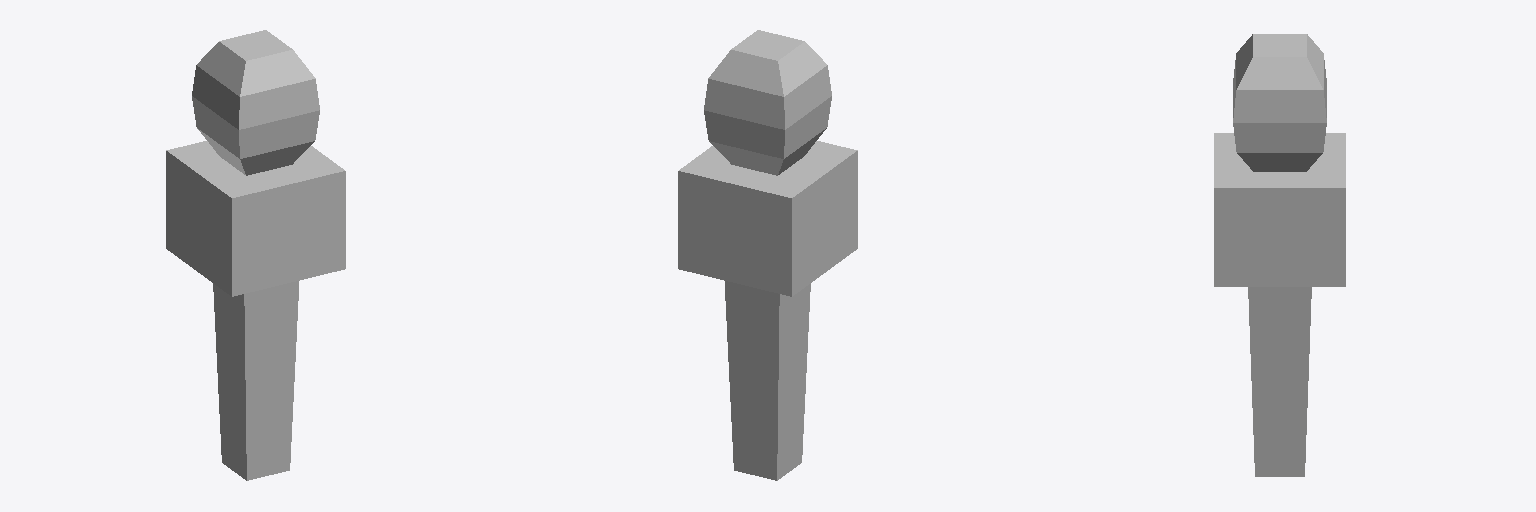
The model's file is CHAHIN_MICROPHONE.obj.
3 views of the same model, side by side, from view 1: azimuth 30°, elevation 25°; view 2: azimuth 150°, elevation 25°; view 3: azimuth 270°, elevation 25° (orthographic).
Parts seen in each view (by area): view 1: MICROPHONE_Cube.002; view 2: MICROPHONE_Cube.002; view 3: MICROPHONE_Cube.002.
Boxes of the visible parts, <box> form: MICROPHONE_Cube.002: <box>166,30,345,480</box>; MICROPHONE_Cube.002: <box>678,30,857,480</box>; MICROPHONE_Cube.002: <box>1214,34,1345,476</box>.
Size of the model in its own units: 0.3904 by 1.38 by 0.3904.